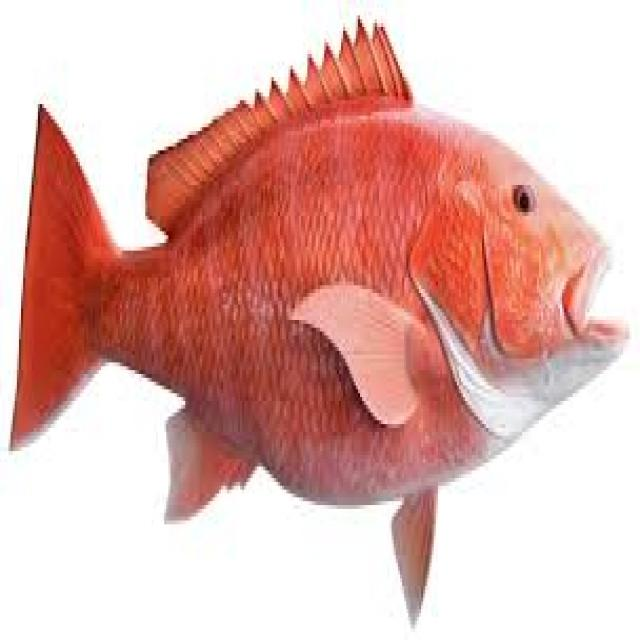northern-red-snapper: (16, 0, 640, 596)
